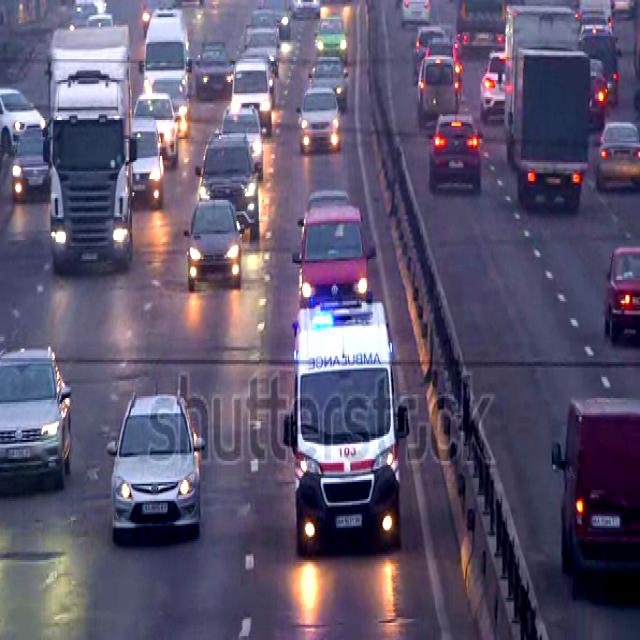ambulance: (283, 297, 412, 560)
